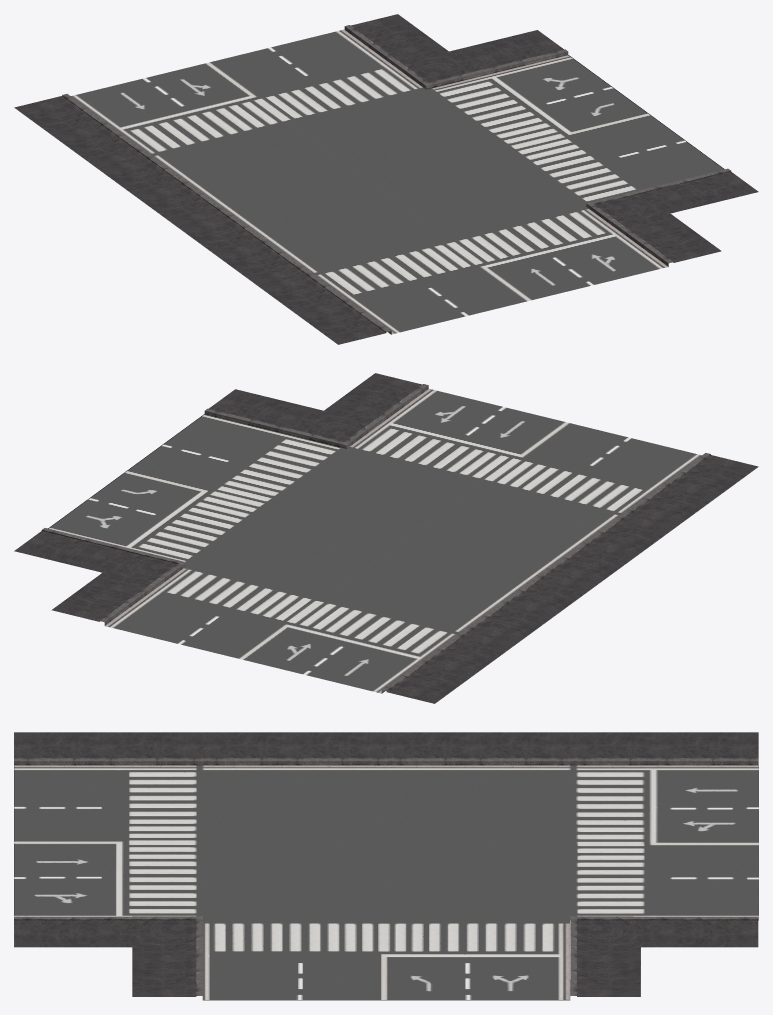
Rendered from 4 lines T intersection.FBX.
3 views of the same model, one above another, from view 1: azimuth 30°, elevation 25°; view 2: azimuth 150°, elevation 25°; view 3: azimuth 270°, elevation 25° (orthographic). The views are drawn at different scales.
Visible parts, largest first — view 1: Object070; view 2: Object070; view 3: Object070.
Boxes of the visible parts, bbox=[...] form: Object070: bbox=[14, 14, 758, 344]; Object070: bbox=[14, 373, 758, 703]; Object070: bbox=[14, 732, 758, 1000].
Size of the model in its own units: 39.91 by 0.3187 by 47.44.
